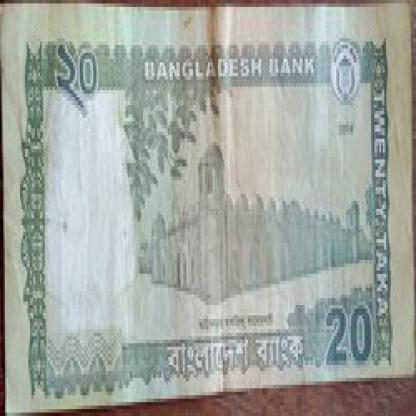Twenty: (44, 31, 112, 118), (323, 298, 378, 375)
